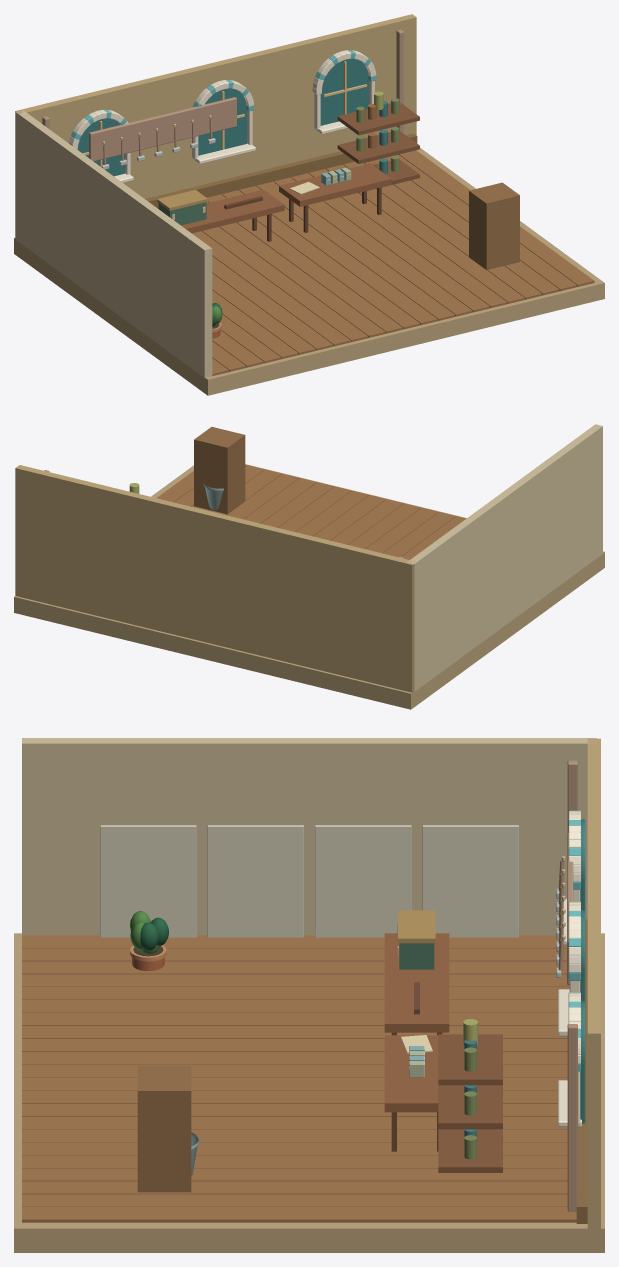
File: shed.glb
The picture shows the model from 3 angles, top to bottom: view 1: azimuth 30°, elevation 25°; view 2: azimuth 150°, elevation 25°; view 3: azimuth 270°, elevation 25°; orthographic projection. The views are drawn at different scales.
Parts seen in each view (by area): view 1: Art_Material_7, Art_Material_9, Art_Material_8, Art_Material_6, Art_Cabinet walnut, Art_Material_12, Art_Material_17, Art_Material_16, Art_Arch limestone, Art_Material_10, Art_Material_2, Art_Material_1 (+8 smaller); view 2: Art_Material_8, Art_Material_9, Art_Material_7, Art_Material_6, Art_Material_17; view 3: Art_Material_7, Art_Material_9, Art_Muted wall panels, Art_Material_6, Art_Material_12, Art_Material_16, Art_Material_17, Art_Material_8, Art_Cabinet walnut, Art_Arch limestone, Art_Material_10, Pickup_box (+5 smaller).
Part boxes in pixels (x1,y1,x2,y2): Art_Material_7: [192, 150, 594, 375]; Art_Material_9: [16, 110, 212, 377]; Art_Material_8: [15, 14, 416, 238]; Art_Material_6: [14, 148, 604, 395]; Art_Cabinet walnut: [42, 29, 403, 164]; Art_Material_12: [181, 163, 391, 233]; Art_Material_17: [469, 182, 519, 270]; Art_Material_16: [337, 102, 419, 192]; Art_Arch limestone: [69, 50, 376, 174]; Art_Material_10: [145, 133, 417, 208]; Art_Material_2: [320, 59, 369, 125]; Art_Material_1: [198, 88, 246, 155]; Art_Material_8: [15, 465, 414, 692]; Art_Material_9: [407, 424, 602, 691]; Art_Material_7: [156, 464, 466, 559]; Art_Material_6: [14, 464, 604, 709]; Art_Material_17: [194, 427, 245, 514]; Art_Material_7: [22, 935, 576, 1222]; Art_Material_9: [22, 738, 596, 935]; Art_Muted wall panels: [100, 825, 518, 937]; Art_Material_6: [14, 933, 604, 1252]; Art_Material_12: [384, 933, 449, 1112]; Art_Material_16: [438, 1034, 502, 1172]; Art_Material_17: [137, 1066, 191, 1192]; Art_Material_8: [587, 738, 600, 1228]; Art_Cabinet walnut: [558, 760, 577, 1211]; Art_Arch limestone: [568, 811, 580, 1124]; Art_Material_10: [576, 919, 587, 1223]; Pickup_box: [398, 910, 435, 943].
Bounding box in the file's own units: 13.03 × 4.5 × 11.
